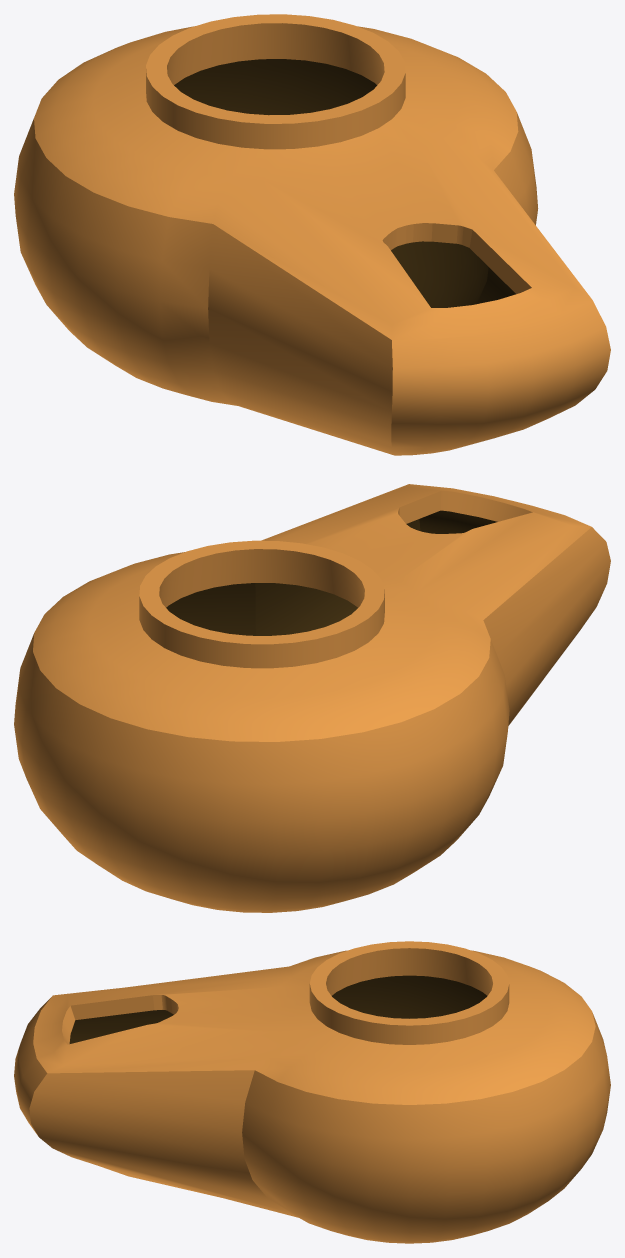
File: musbieh.fbx
3 views of the same model, one above another, from view 1: azimuth 30°, elevation 25°; view 2: azimuth 150°, elevation 25°; view 3: azimuth 270°, elevation 25° (orthographic). The views are drawn at different scales.
Parts seen in each view (by area): view 1: Sphere; view 2: Sphere; view 3: Sphere.
Boxes of the visible parts, <box> form: Sphere: <box>14,14,610,455</box>; Sphere: <box>14,484,610,912</box>; Sphere: <box>14,941,610,1243</box>.
Bounding box in the file's own units: 200 × 130 × 296.
